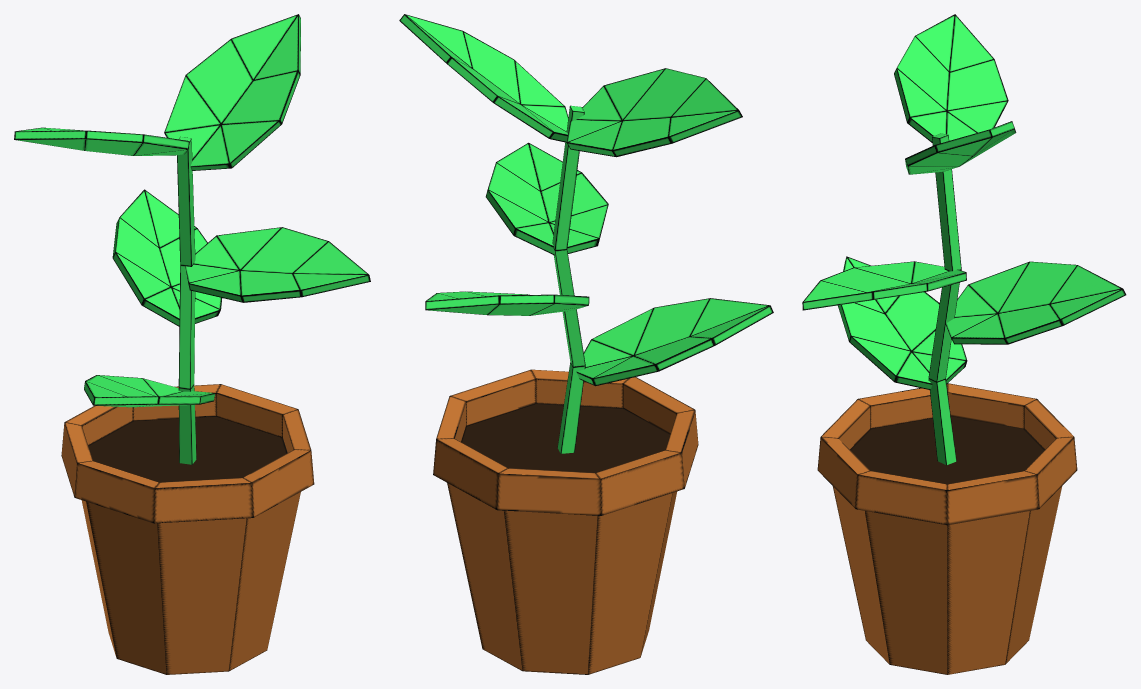
Rendered from Flowerpot.fbx.
3 views of the same model, side by side, from view 1: azimuth 30°, elevation 25°; view 2: azimuth 150°, elevation 25°; view 3: azimuth 270°, elevation 25° (orthographic). The views are drawn at different scales.
Parts seen in each view (by area): view 1: Flowerpot; view 2: Flowerpot; view 3: Flowerpot.
Part boxes in pixels (x1=…): Flowerpot: x1=14, y1=14, x2=370, y2=674; Flowerpot: x1=399, y1=14, x2=773, y2=674; Flowerpot: x1=802, y1=14, x2=1126, y2=674.
Size of the model in its own units: 277 by 499 by 255.
Materials: 1 (1 with a texture image).
